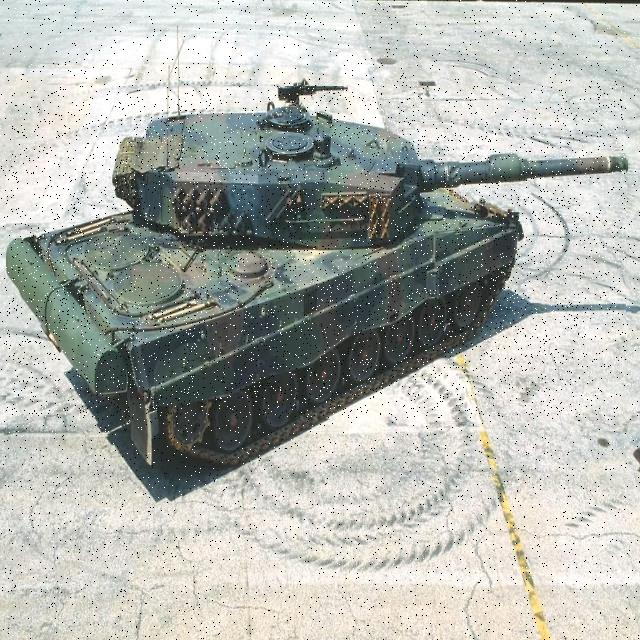MIL_MBT: (6, 87, 626, 418)
